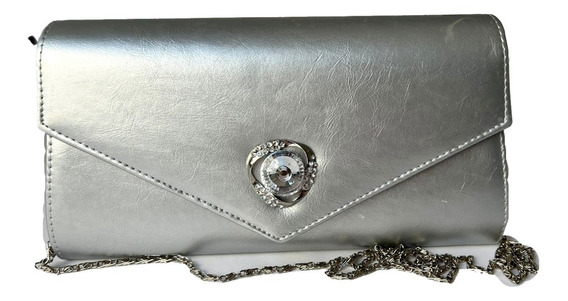cartera: (30, 16, 514, 259)
